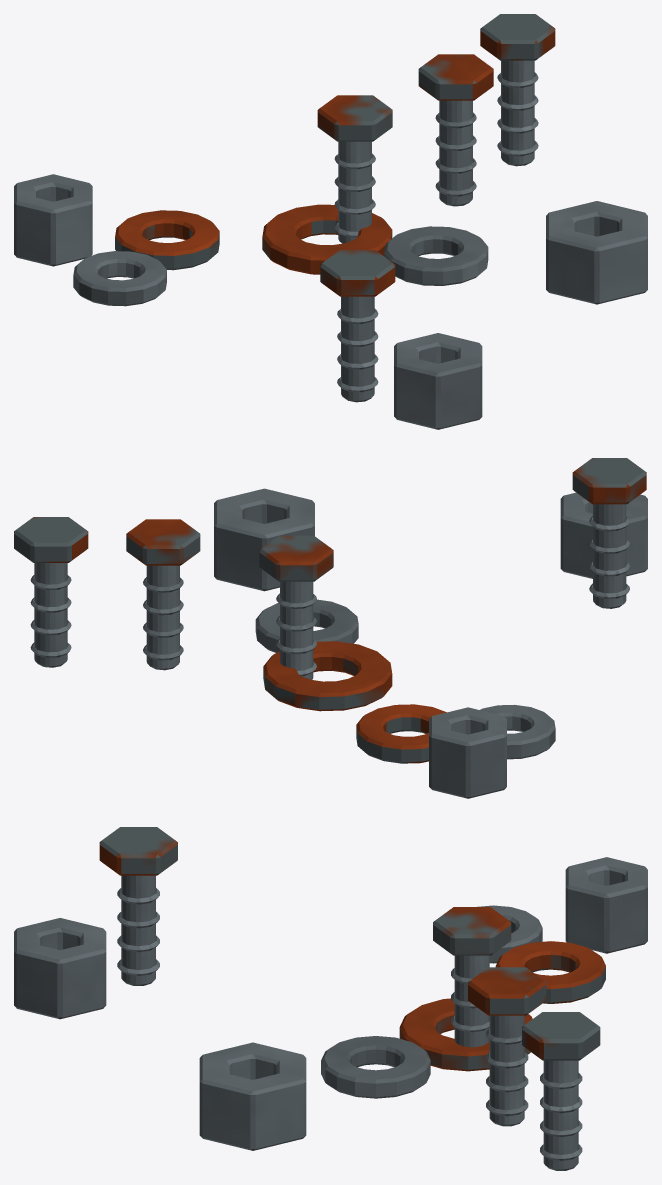
The model's file is hardware-41.glb.
The picture shows the model from 3 angles, top to bottom: view 1: azimuth 30°, elevation 25°; view 2: azimuth 150°, elevation 25°; view 3: azimuth 270°, elevation 25°; orthographic projection. The views are drawn at different scales.
Visible parts, largest first — view 1: hardware-41; view 2: hardware-41; view 3: hardware-41.
Part boxes in pixels (bbox=[...]): hardware-41: bbox=[14, 14, 647, 429]; hardware-41: bbox=[14, 458, 647, 798]; hardware-41: bbox=[14, 827, 647, 1170].
Size of the model in its own units: 0.4689 by 0.117 by 0.4824.
2 materials, 2 textured.
